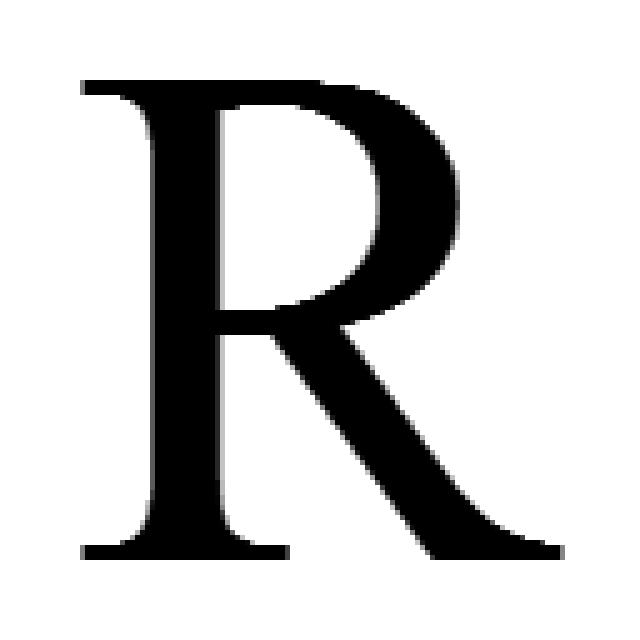R: (70, 65, 565, 570)
